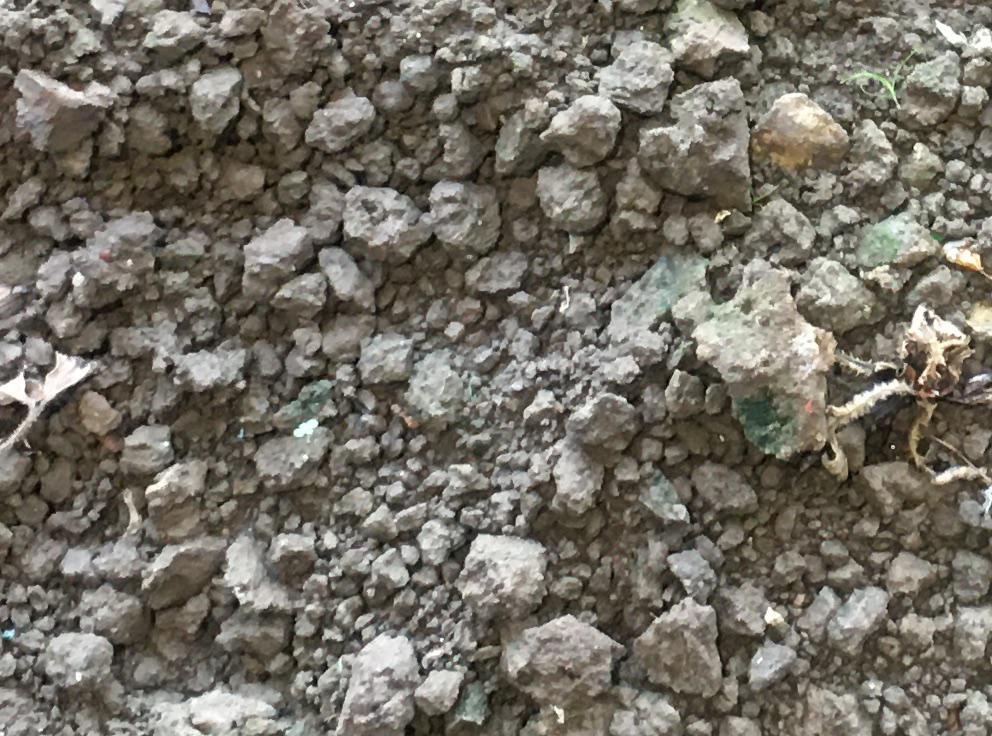block: (697, 264, 828, 464), (639, 76, 759, 215), (449, 528, 559, 627), (508, 614, 622, 706), (632, 592, 722, 700), (11, 67, 95, 155)
